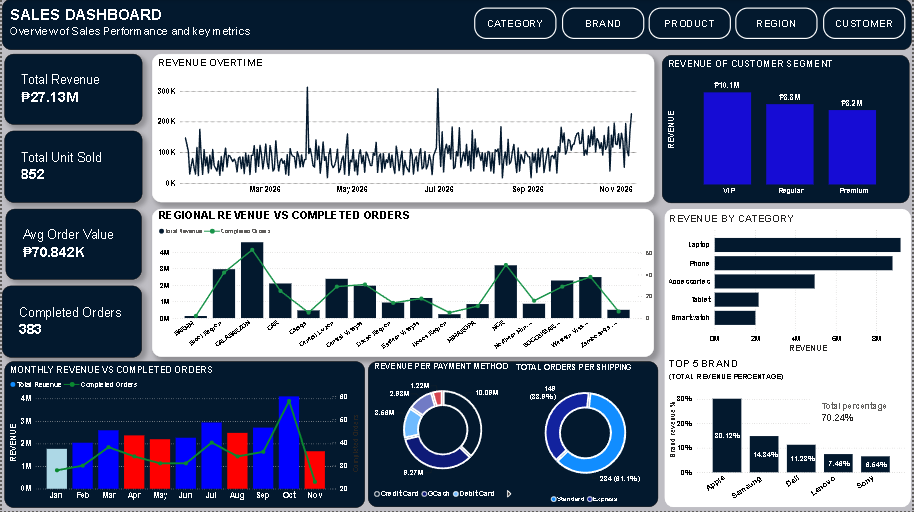

The dashboard page shown, as its layout file describes it:
{"tool":"powerbi","page":{"name":"OVERVIEW","canvas":[1920,1080],"ordinal":0},"visuals":[{"type":"shape","box":[1398.1,443.8,520.1,629.9],"z":0,"group":"g1"},{"type":"shape","box":[0,0,1920,107.3],"z":1000},{"type":"shape","box":[772.5,765,612.5,307.5],"z":2000},{"type":"actionButton","box":[997.3,19.1,174.1,66.8],"z":3000},{"type":"lineChart","title":"REVENUE OVERTIME","fields":{"Y":["public order_items.Total Revenue"],"Category":["public order_receipts.order_date"]},"box":[317,117.1,1060.2,313],"z":4000},{"type":"actionButton","box":[1364.7,19.1,174.1,66.8],"z":5000},{"type":"actionButton","box":[1548.4,19.1,174.1,66.8],"z":6000},{"type":"lineClusteredColumnComboChart","title":"REGIONAL REVENUE VS COMPLETED ORDERS","fields":{"Category":["public customer.region"],"Y":["public order_items.Total Revenue"],"Y2":["public order_receipts.Total Orders"]},"box":[317.3,443.8,1059.3,312.5],"z":7000},{"type":"actionButton","box":[1181,19.1,174.1,66.8],"z":8000},{"type":"textbox","box":[11.9,9.5,536.8,97.8],"z":9000},{"type":"donutChart","title":"TOTAL ORDERS PER SHIPPING","fields":{"Category":["public order_receipts.shipping_method"],"Y":["public order_receipts.Total Orders"]},"box":[1080,767.5,305,307.5],"z":10000},{"type":"cardVisual","fields":{"Data":["public order_items.Total Revenue"]},"box":[4,115.1,290.8,149.4],"z":11000},{"type":"cardVisual","fields":{"Data":["public order_receipts.Avg Order Value"]},"box":[8.1,442.3,286.8,149.4],"z":12000},{"type":"cardVisual","fields":{"Data":["public order_receipts.Total Orders"]},"box":[0,605.8,294.8,151.5],"z":13000},{"type":"cardVisual","fields":{"Data":["public order_items.Total Quantity"]},"box":[4,278.7,290.8,151.5],"z":14000},{"type":"clusteredBarChart","title":"REVENUE BY CATEGORY","fields":{"Category":["public product.category"],"Y":["public order_items.Total Revenue"]},"box":[1402.9,451,508.2,300.6],"z":15000,"group":"g1"},{"type":"columnChart","title":"TOP 5 BRAND","fields":{"Category":["public product.brand"],"Y":["public customer.Brand revenue %"]},"box":[1403.5,757.3,508.9,319.1],"z":16000,"group":"g1"},{"type":"lineClusteredColumnComboChart","title":"MONTHLY REVENUE VS COMPLETED ORDERS","fields":{"Category":["public order_receipts.Month Name"],"Y":["public order_items.Total Revenue"],"Y2":["public order_receipts.Completed Orders"]},"box":[5.8,763.6,760.7,308.9],"z":17000},{"type":"actionButton","box":[1732.1,19.1,174.1,66.8],"z":18000},{"type":"donutChart","title":"REVENUE PER PAYMENT METHOD","fields":{"Category":["public order_receipts.payment_method"],"Y":["public order_items.Total Revenue"]},"box":[780,765,300,300],"z":19000},{"type":"clusteredColumnChart","title":"REVENUE OF CUSTOMER SEGMENT","fields":{"Category":["public customer.customer_segment"],"Y":["public order_items.Total Revenue"]},"box":[1392.5,117.5,522.5,312.5],"z":20000},{"type":"cardVisual","fields":{"Data":["public customer.Total percentage"]},"box":[1701.1,827.9,210,94.9],"z":21000,"group":"g1"},{"type":"group","id":"g1","title":"Group 1","box":[1398.1,443.8,520.1,632.6],"z":21001}]}

Visuals, with their boxes in screenshot pixels (x1, y1, x2, y2), scaled from the page's 1920x1080 canvas onto the 914x512 screenshot:
shape: [666,210,913,509]
shape: [0,0,913,51]
shape: [368,363,659,508]
actionButton: [475,9,558,41]
"REVENUE OVERTIME" lineChart: [151,56,656,204]
actionButton: [650,9,733,41]
actionButton: [737,9,820,41]
"REGIONAL REVENUE VS COMPLETED ORDERS" lineClusteredColumnComboChart: [151,210,655,359]
actionButton: [562,9,645,41]
textbox: [6,5,261,51]
"TOTAL ORDERS PER SHIPPING" donutChart: [514,364,659,510]
cardVisual - public order_items.Total Revenue: [2,55,140,125]
cardVisual - public order_receipts.Avg Order Value: [4,210,140,281]
cardVisual - public order_receipts.Total Orders: [0,287,140,359]
cardVisual - public order_items.Total Quantity: [2,132,140,204]
"REVENUE BY CATEGORY" clusteredBarChart: [668,214,910,356]
"TOP 5 BRAND" columnChart: [668,359,910,510]
"MONTHLY REVENUE VS COMPLETED ORDERS" lineClusteredColumnComboChart: [3,362,365,508]
actionButton: [825,9,907,41]
"REVENUE PER PAYMENT METHOD" donutChart: [371,363,514,505]
"REVENUE OF CUSTOMER SEGMENT" clusteredColumnChart: [663,56,912,204]
cardVisual - public customer.Total percentage: [810,392,910,437]
"Group 1" group: [666,210,913,510]
